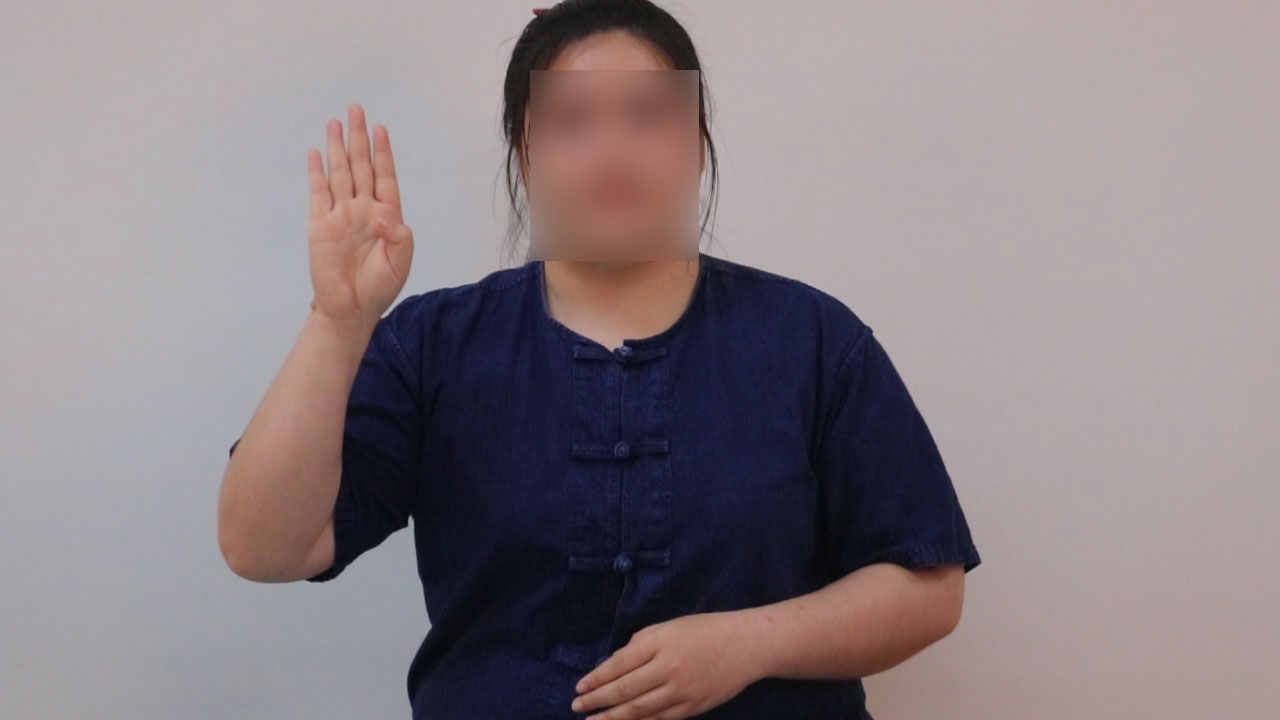bor: (284, 91, 430, 359)
